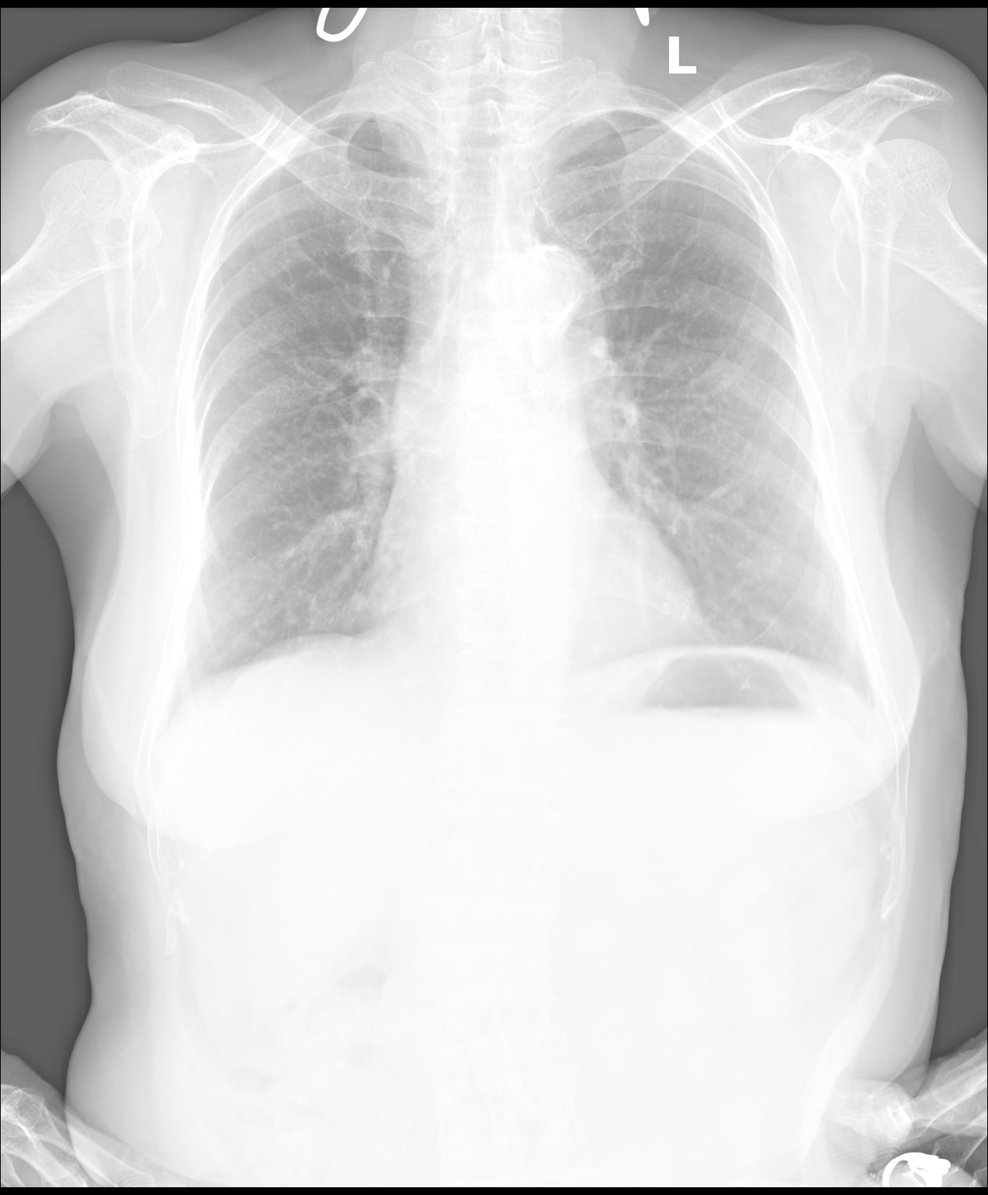Aortic enlargement: (489, 245, 605, 380)
